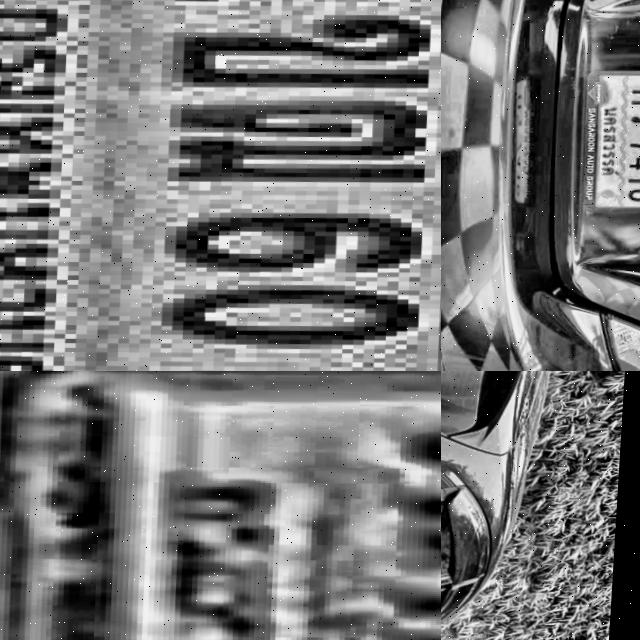license-plate: (0, 0, 441, 371), (0, 371, 441, 640), (581, 65, 640, 211)
